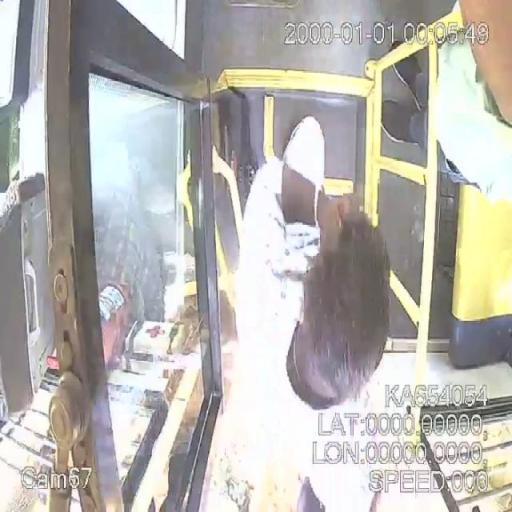persona: (212, 114, 391, 511)
